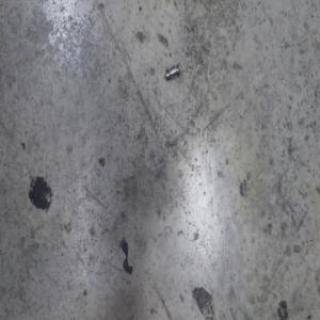Bolttrack_idkeyframe: (164, 62, 180, 82)
